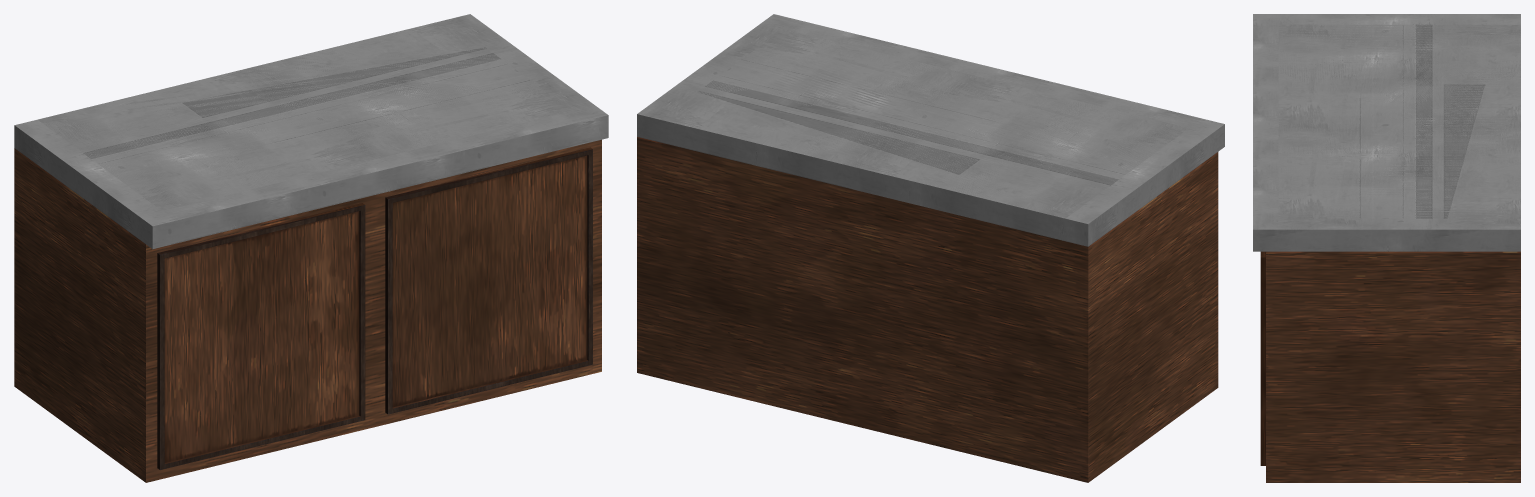
Rendered from cabinet3.fbx.
The picture shows the model from 3 angles, left to right: view 1: azimuth 30°, elevation 25°; view 2: azimuth 150°, elevation 25°; view 3: azimuth 270°, elevation 25°; orthographic projection. The views are drawn at different scales.
Parts seen in each view (by area): view 1: cabinet.003; view 2: cabinet.003; view 3: cabinet.003.
Part boxes in pixels (bbox=[...]): cabinet.003: bbox=[14, 14, 608, 482]; cabinet.003: bbox=[637, 14, 1224, 482]; cabinet.003: bbox=[1253, 14, 1520, 482].
Size of the model in its own units: 1.05 by 2 by 1.1.
Materials: 3 (3 with a texture image).
